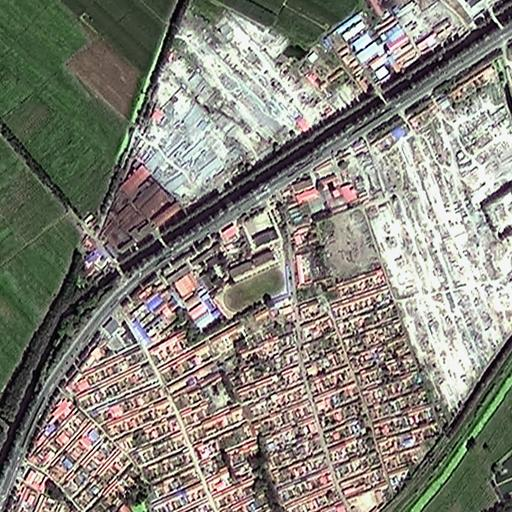school: (218, 204, 285, 318)
